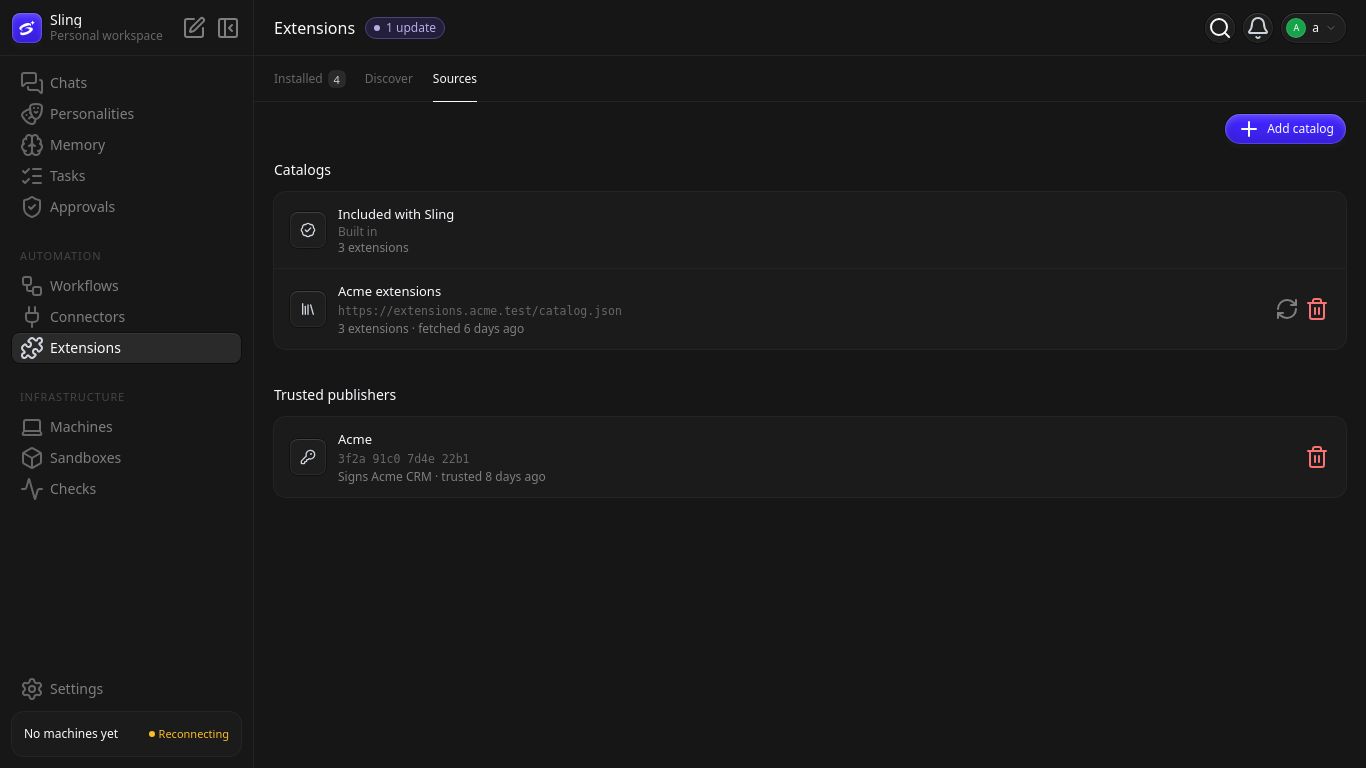
Test: sources › lists catalogs with the included one first and fixed, and refreshes or removes the rest
This screenshot has width=1366, height=768.
Check: the list item "Included with Sling Built in 3 extensions" is shown, box [274,192,1346,269]
Check: the text "https://extensions.acme.test/catalog.json" is shown, box [338,304,622,318]
Click the button named "Refresh Acme extensions" at (1287, 309), box [1274,296,1300,322]
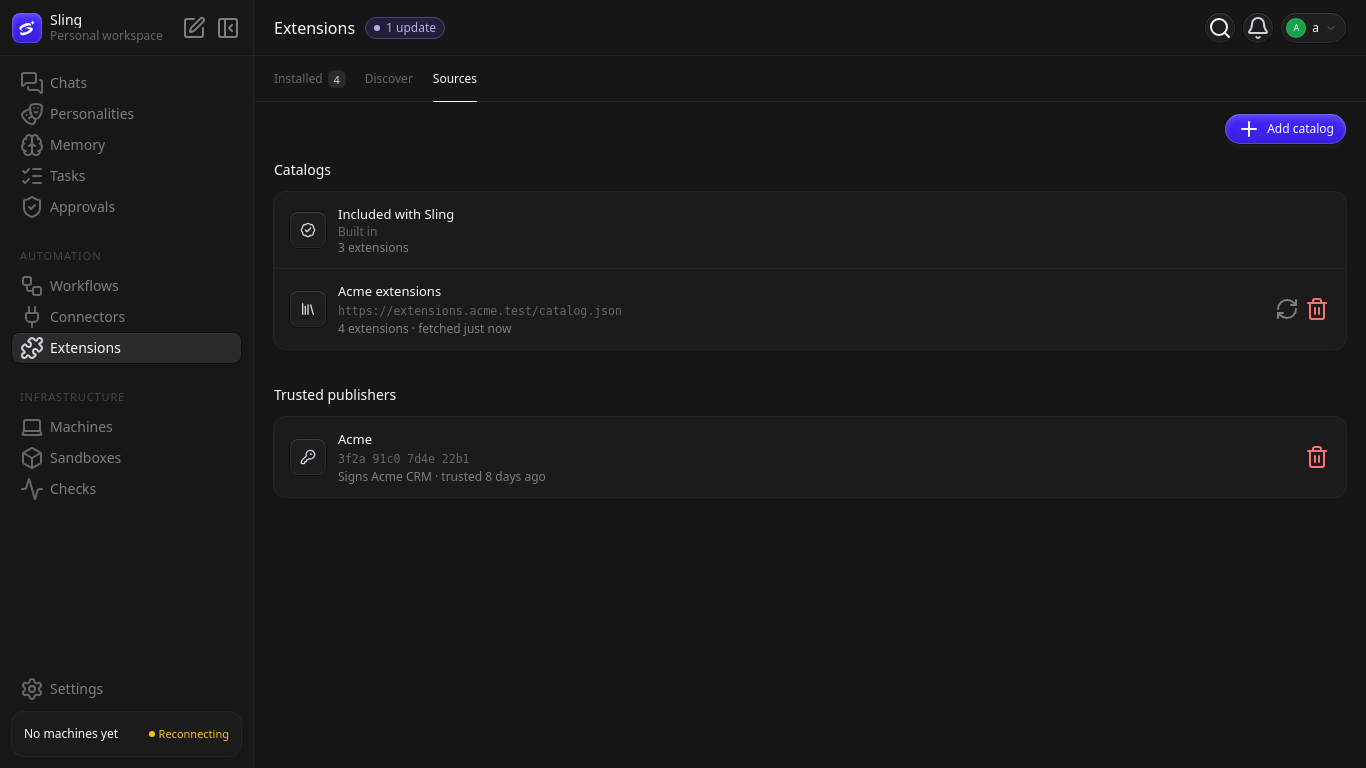
Click the button named "Remove Acme extensions" at (1317, 309), box [1304,296,1330,322]
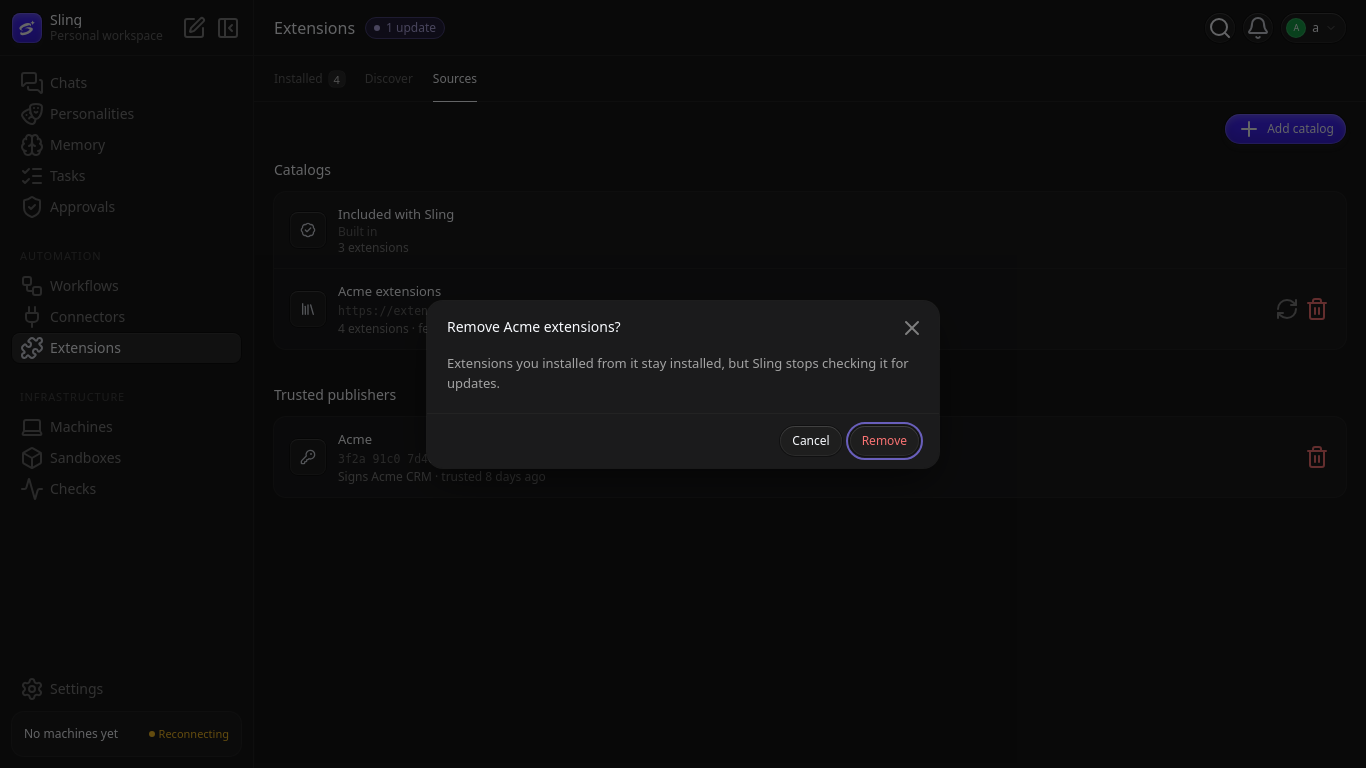
Check: the text "stay installed, but Sling stops checking it for updates" is shown, box [447,354,909,392]
Click the button "Remove" at (884, 440), box [850,426,919,456]
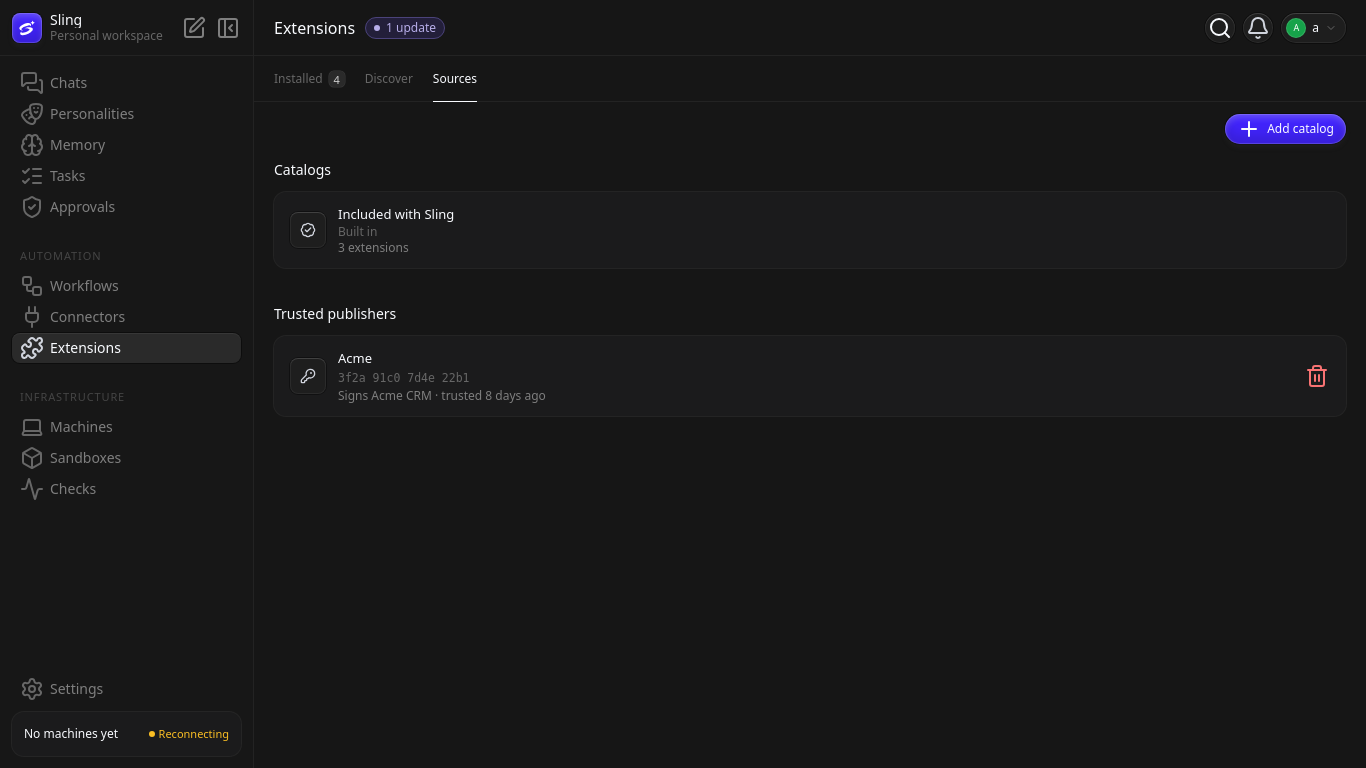
Check: the text "Acme extensions" is gone
